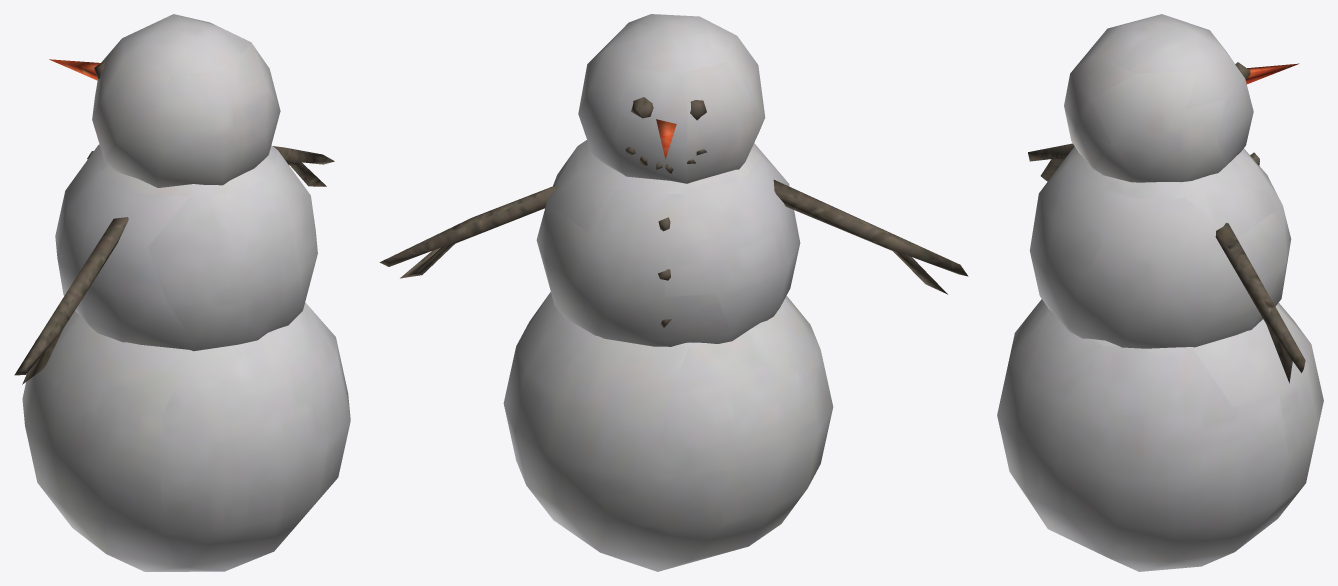
File: Snow_Snowman.fbx
The picture shows the model from 3 angles, left to right: view 1: azimuth 30°, elevation 25°; view 2: azimuth 150°, elevation 25°; view 3: azimuth 270°, elevation 25°; orthographic projection.
Visible parts, largest first — view 1: Snow_Snowman; view 2: Snow_Snowman; view 3: Snow_Snowman.
Part boxes in pixels (box(x1,y1,x2,y2)): Snow_Snowman: box(14, 14, 350, 571); Snow_Snowman: box(379, 14, 968, 571); Snow_Snowman: box(997, 14, 1323, 571).
Bounding box in the file's own units: 2.21 × 2.48 × 1.38.
Materials: 1 (1 with a texture image).
